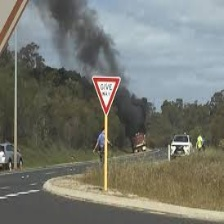smoke: (47, 4, 138, 76)
